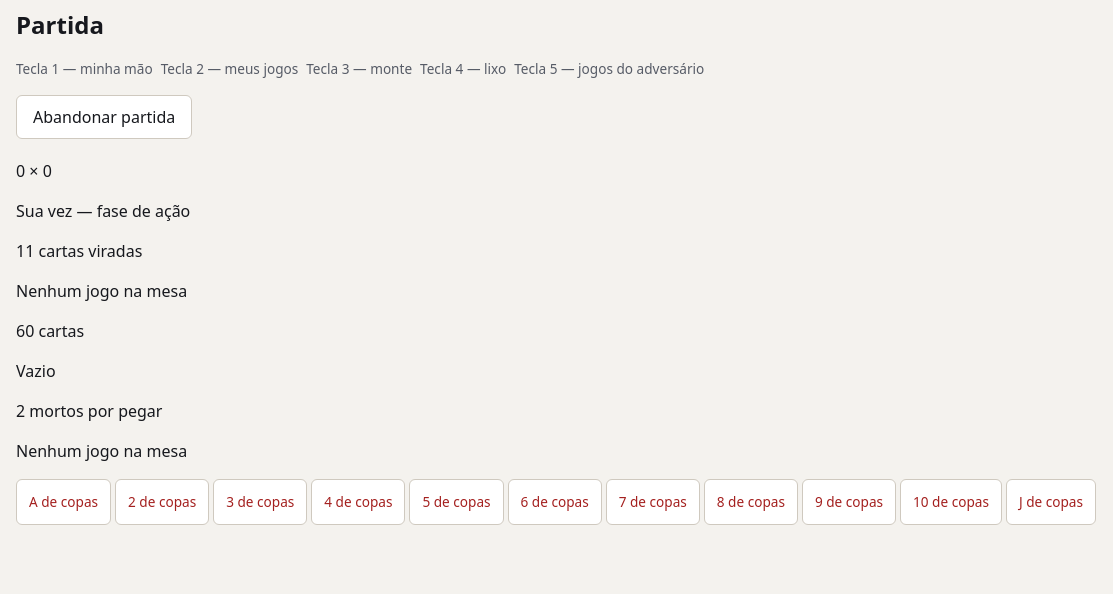
S48 e S49 — seleção por conjunto › CA-S48-2 — com uma carta selecionada, aparece Descartar e não aparece Baixar
Click the button "5 de copas": (456, 502) [418,484,494,520]
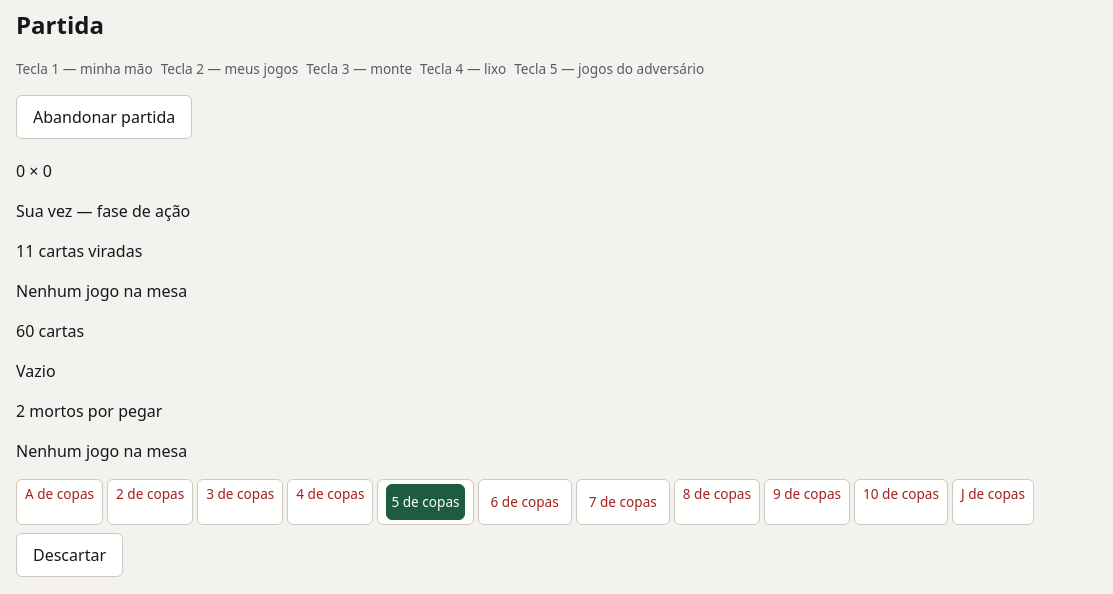
Check: the button "Descartar" is shown, box [16,533,123,577]
